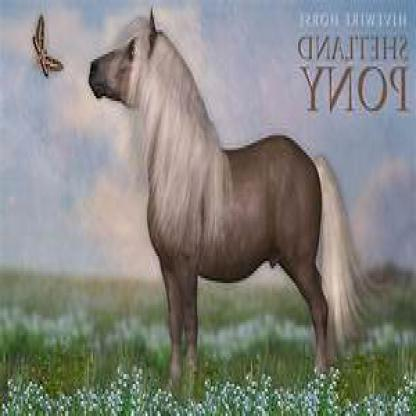horse: (86, 34, 345, 394)
